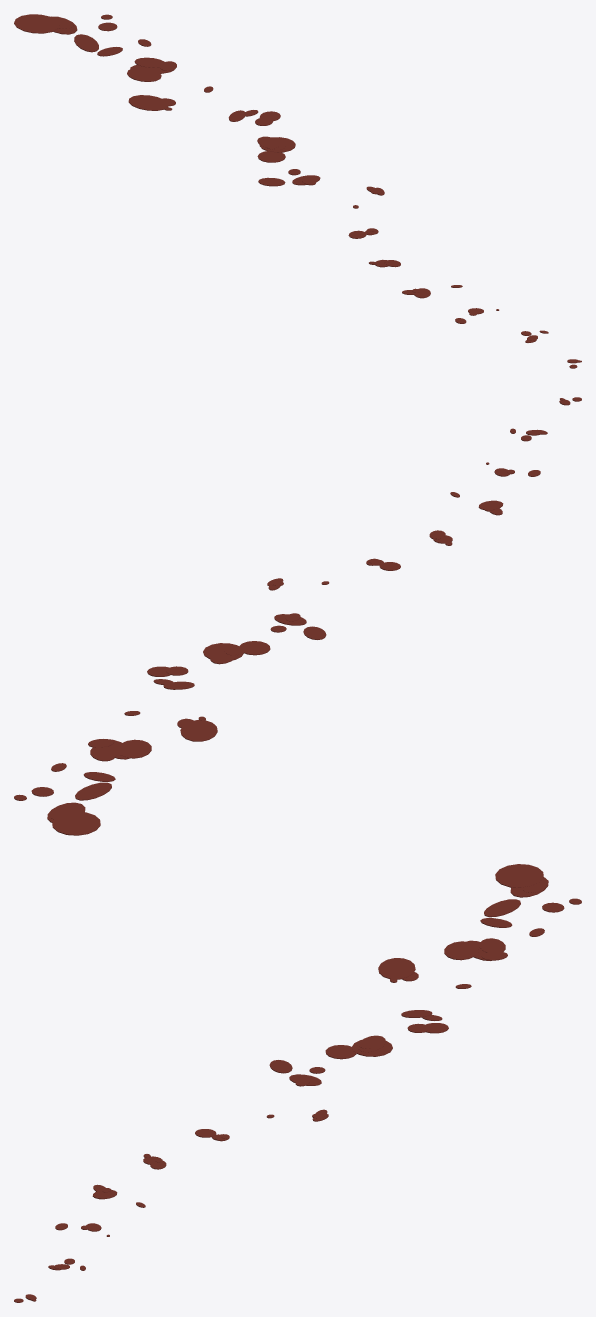
File: blood_trail.glb
The picture shows the model from 3 angles, top to bottom: view 1: azimuth 30°, elevation 25°; view 2: azimuth 150°, elevation 25°; view 3: azimuth 330°, elevation 25°; orthographic projection. The views are drawn at different scales.
Parts seen in each view (by area): view 1: blood_trail; view 2: blood_trail; view 3: blood_trail.
Part boxes in pixels (x1,y1,x2,y2): blood_trail: (14, 14, 581, 368); blood_trail: (14, 397, 581, 835); blood_trail: (14, 864, 581, 1302).
Size of the model in its own units: 0.3721 by 0.0029 by 2.96.
